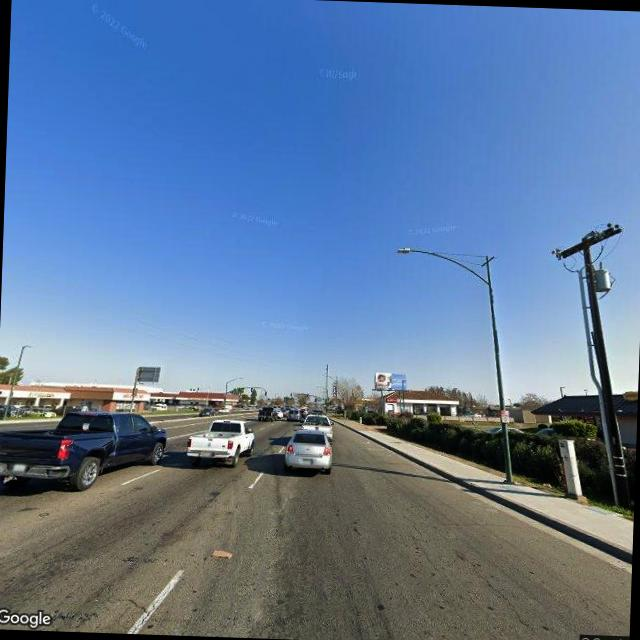crack: (450, 548, 532, 626)
